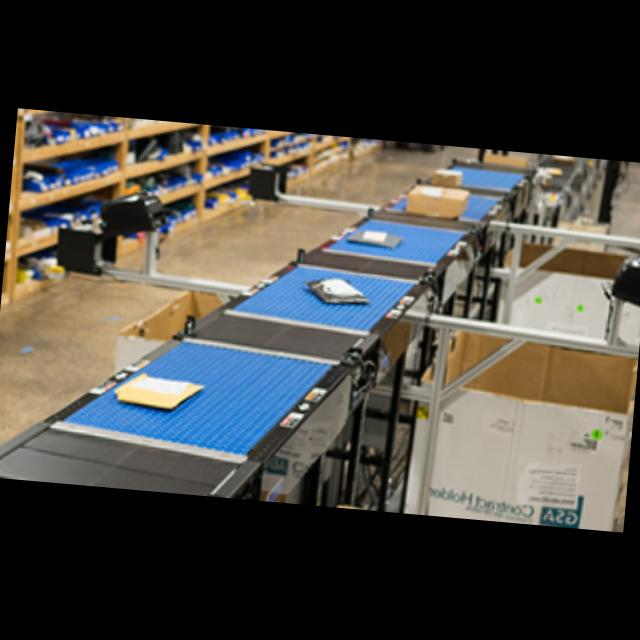box: (403, 183, 469, 220), (432, 168, 462, 188)
mailer: (114, 371, 198, 413), (306, 274, 365, 308), (344, 226, 400, 250)
